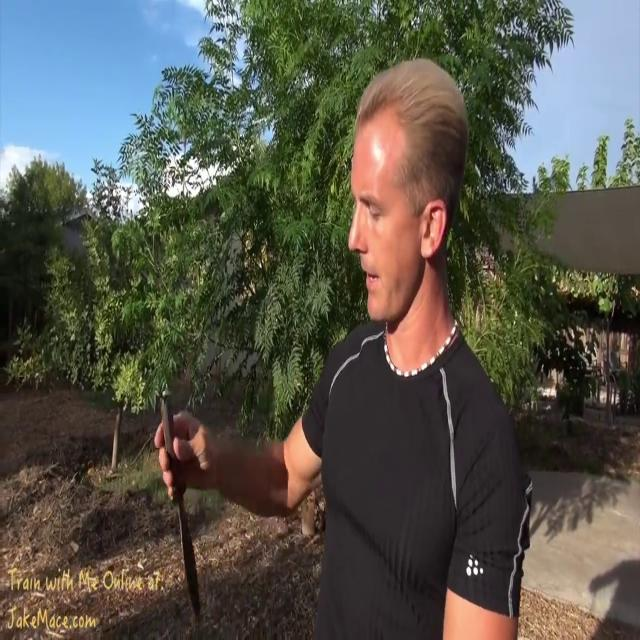knife: (149, 374, 222, 628)
